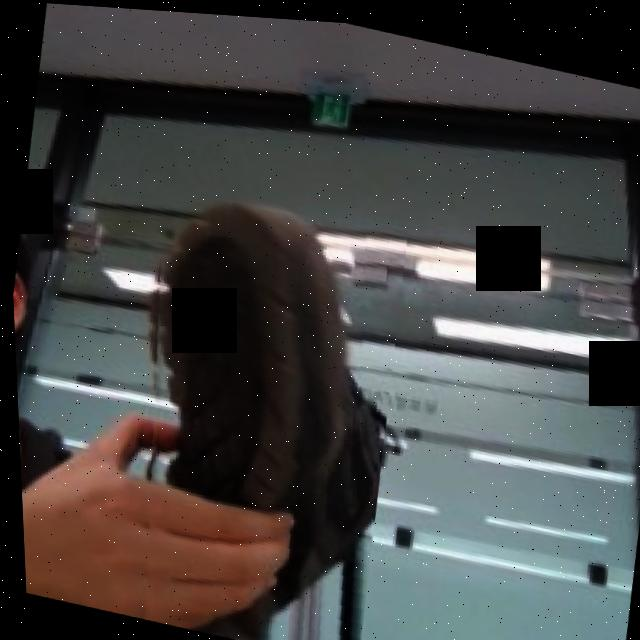shoe: (94, 177, 420, 640)
